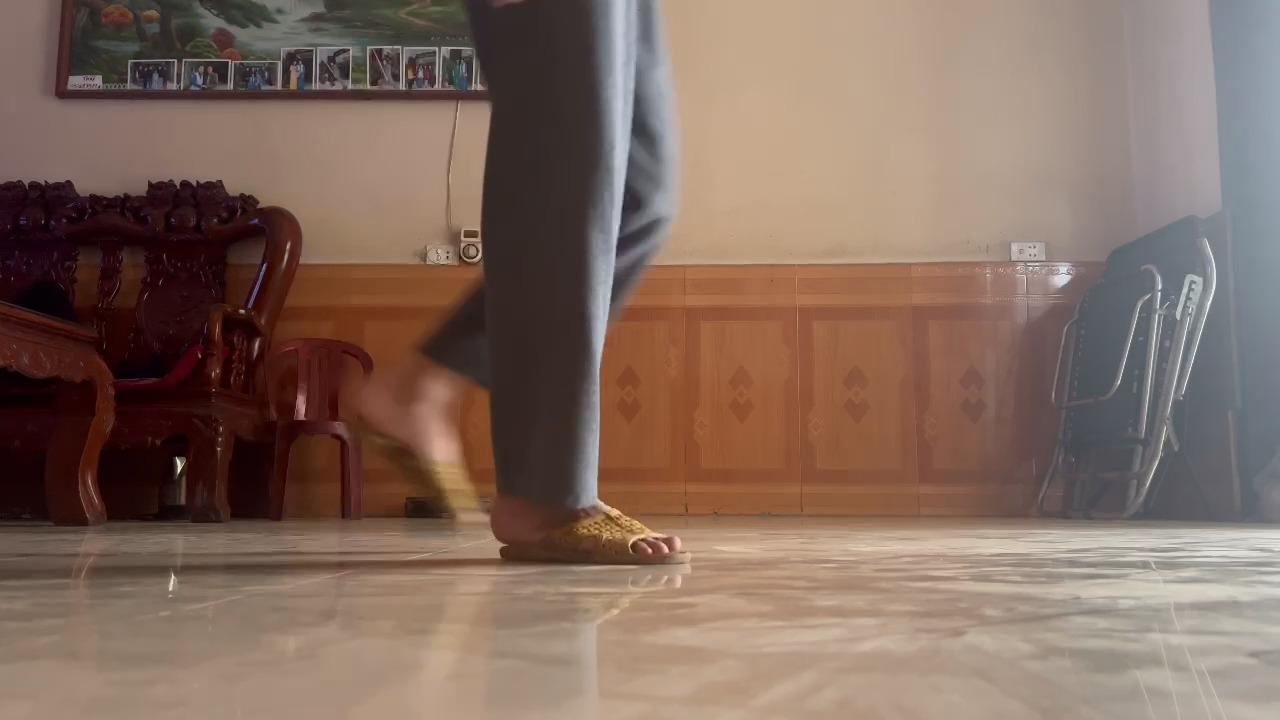no-boot: (349, 376, 483, 525), (489, 487, 694, 576)
